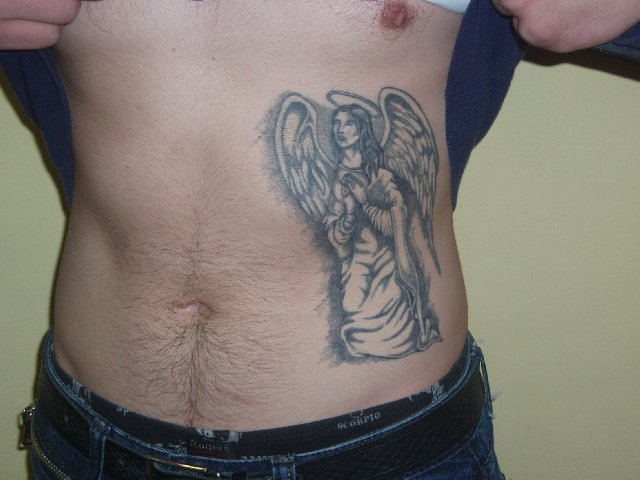tatu1_angel: (248, 83, 451, 365)
